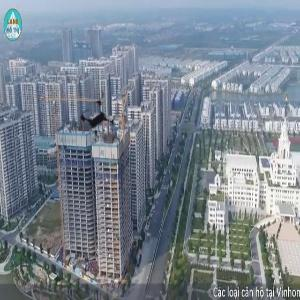drone: (59, 79, 143, 163)
